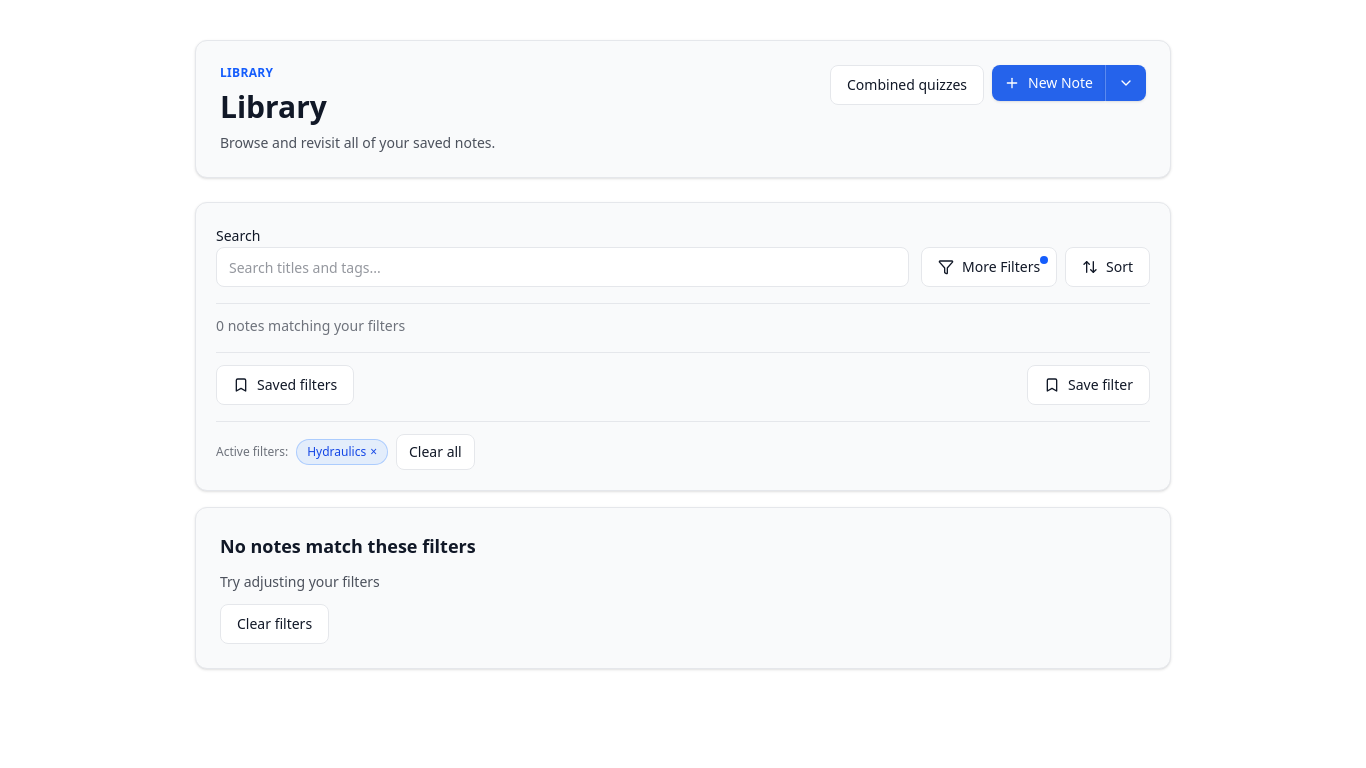
Library page › keeps the subject control reachable while its filter is active but its facet list is empty
expect the heading "No notes match these filters" is shown: met, box 220,534 -> 476,558
Click the button with aria-label "Open more filters" at (989, 267), box 921,247 -> 1057,287
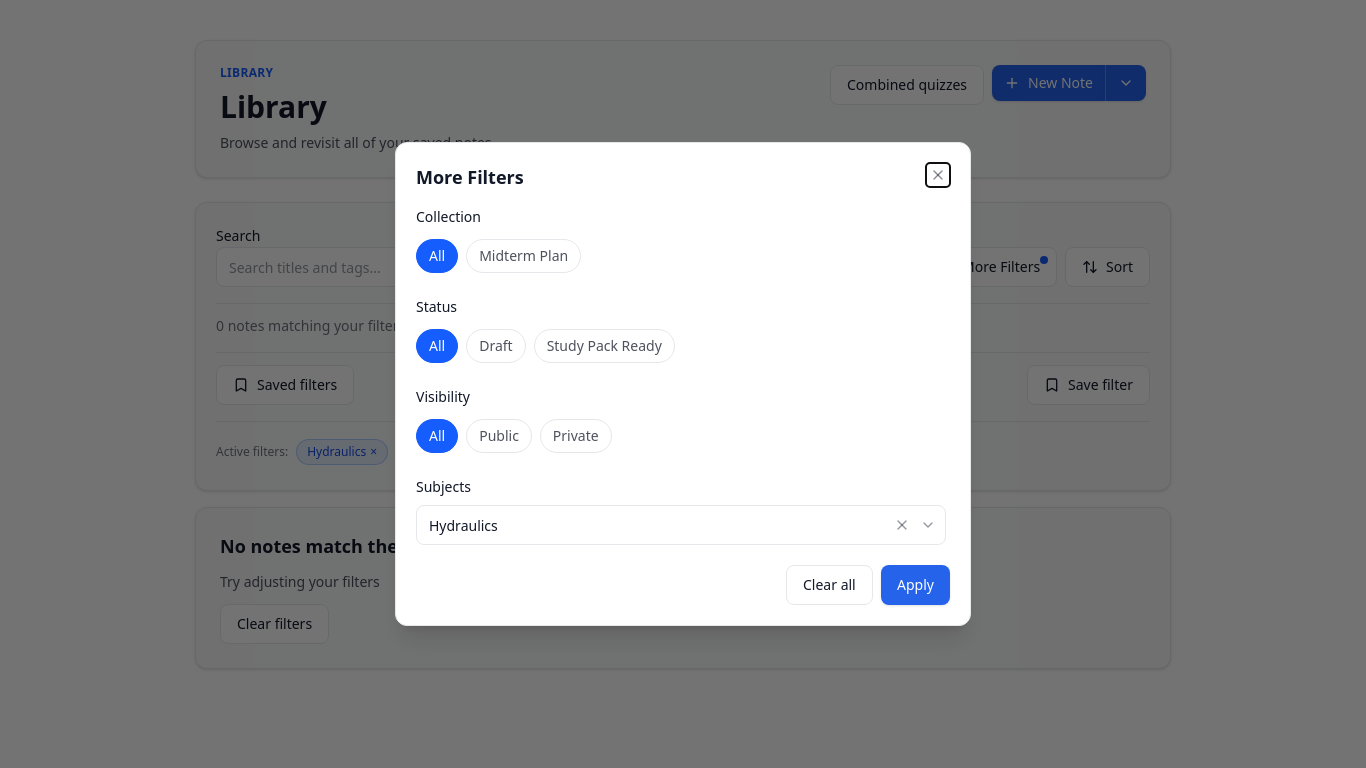
expect the button named "Clear subject filter" is shown: met, box 890,513 -> 914,537
